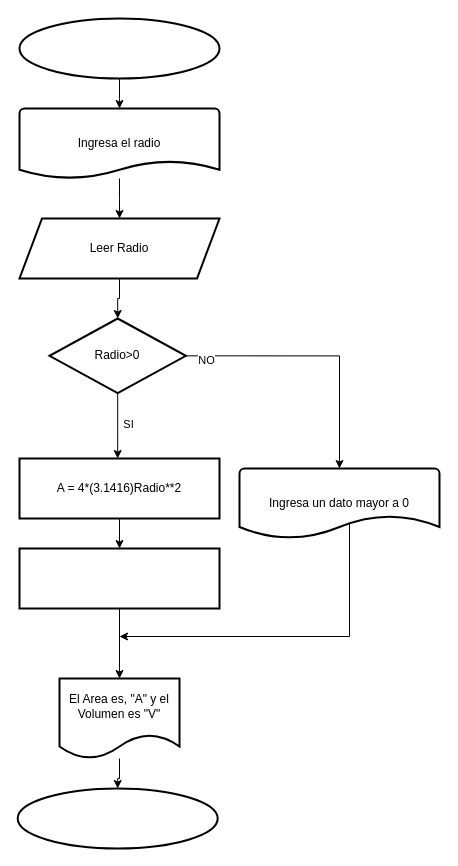
The diagram is 458 pixels wide and 866 high, and some of its shapes have lost their labels. The box of each missing label's shape, as (x1, y1, x2, y2) in pixels:
Fin: (16, 787, 218, 849)
Inicio: (18, 17, 220, 79)
V = (4/3)*3.1416Radio**3: (18, 547, 220, 609)
